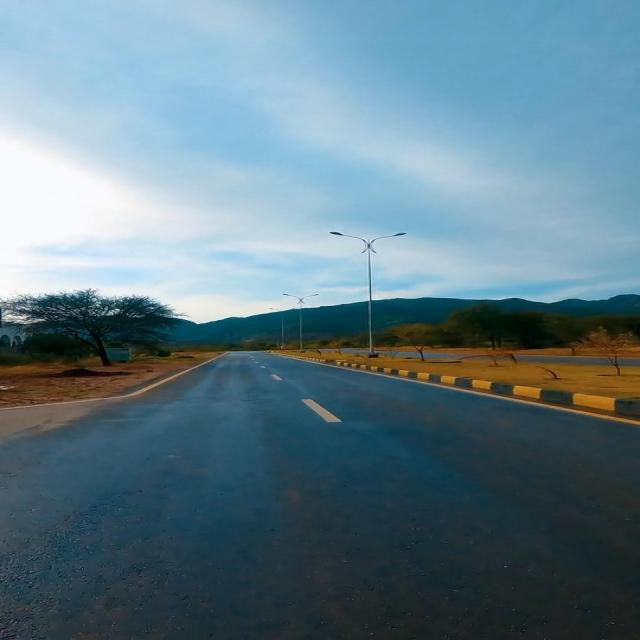asphalt: (0, 352, 639, 639)
grass: (322, 353, 639, 398), (0, 350, 223, 407)
